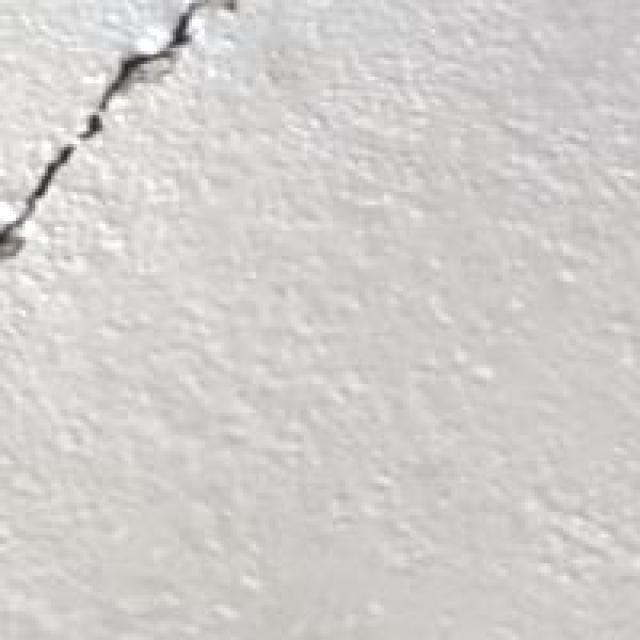crack: (0, 0, 246, 290)
